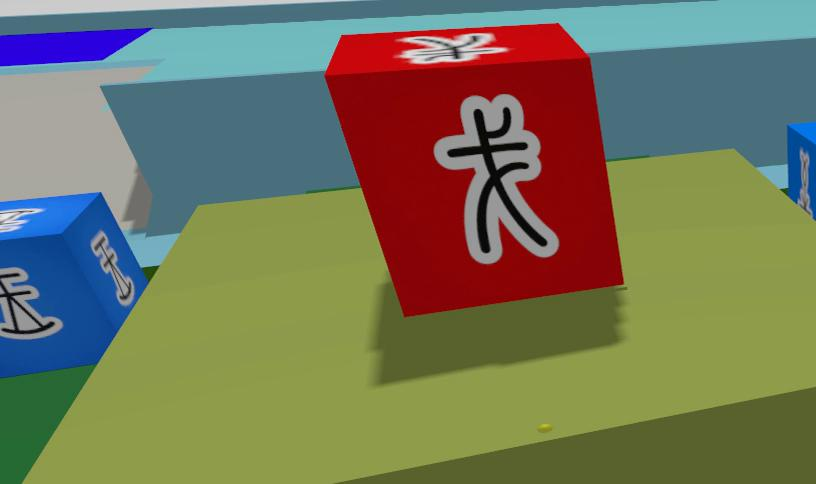KFS_FAKE: (325, 24, 622, 315), (433, 97, 558, 264), (396, 32, 507, 65)
KFS_REAL: (0, 193, 146, 376), (0, 267, 61, 339), (92, 232, 134, 305), (788, 122, 816, 221)
